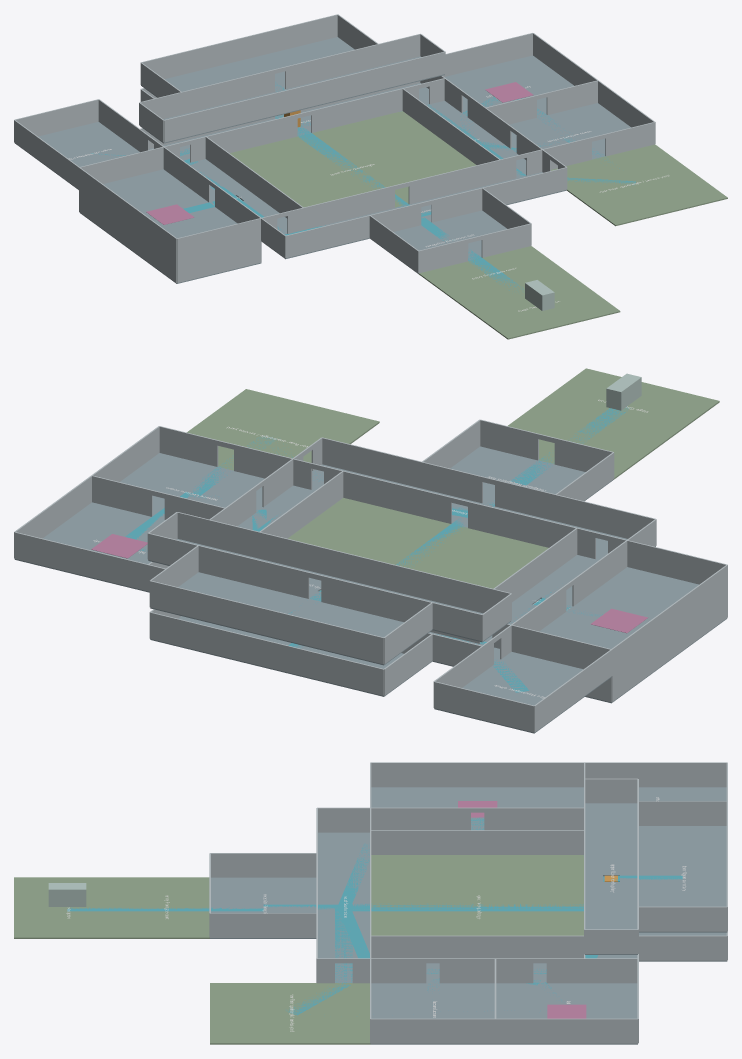
Rendered from rough-shell.glb.
The picture shows the model from 3 angles, top to bottom: view 1: azimuth 30°, elevation 25°; view 2: azimuth 150°, elevation 25°; view 3: azimuth 270°, elevation 25°; orthographic projection. The views are drawn at different scales.
Visible parts, largest first — view 1: Floor quad, Floor rear, Wall upper S, Floor stage, Floor entry, Wall dorm N, Floor library, Floor lab, Floor lecture, Floor dorm, Wall south S.001, Wall south S (+48 smaller); view 2: Floor quad, Wall upper S, Floor rear, Floor stage, Wall dining N, Wall dorm N, Floor library, Floor dorm, Floor lecture, Wall south S, Floor office, Wall lab N (+46 smaller); view 3: Floor quad, Floor rear, Floor dorm, Floor south, Floor stage, Wall library W, Floor entry, Wall west E, Wall east W, Floor lab, Floor lecture, Floor library (+38 smaller).
Part boxes in pixels (left/top/right/bottom): Floor quad: left=230, top=111, right=476, bottom=207; Floor rear: left=551, top=144, right=727, bottom=226; Wall upper S: left=164, top=51, right=445, bottom=142; Floor stage: left=459, top=275, right=620, bottom=339; Floor entry: left=418, top=246, right=571, bottom=303; Wall dorm N: left=141, top=14, right=337, bottom=78; Floor library: left=103, top=169, right=237, bottom=238; Floor lab: left=444, top=55, right=573, bottom=117; Floor lecture: left=509, top=103, right=630, bottom=159; Floor dorm: left=141, top=37, right=354, bottom=97; Wall south S.001: left=431, top=167, right=566, bottom=221; Wall south S: left=285, top=203, right=421, bottom=258; Floor quad: left=288, top=498, right=548, bottom=588; Wall upper S: left=177, top=512, right=511, bottom=613; Floor rear: left=187, top=389, right=379, bottom=470; Floor stage: left=528, top=368, right=719, bottom=444; Wall dining N: left=149, top=612, right=383, bottom=695; Wall dorm N: left=149, top=580, right=383, bottom=664; Floor library: left=539, top=567, right=698, bottom=648; Floor dorm: left=150, top=572, right=431, bottom=665; Floor lecture: left=120, top=453, right=264, bottom=519; Wall south S: left=495, top=480, right=655, bottom=538; Floor office: left=434, top=652, right=611, bottom=733; Wall lab N: left=14, top=532, right=147, bottom=590; Floor quad: left=371, top=855, right=583, bottom=935; Floor rear: left=210, top=983, right=370, bottom=1044; Floor dorm: left=639, top=826, right=727, bottom=932; Floor south: left=318, top=832, right=369, bottom=982; Floor stage: left=14, top=877, right=120, bottom=938; Wall library W: left=371, top=762, right=584, bottom=787; Floor entry: left=121, top=877, right=209, bottom=938; Wall west E: left=371, top=830, right=583, bottom=854; Wall east W: left=371, top=935, right=583, bottom=958; Floor lab: left=495, top=983, right=637, bottom=1044; Floor lecture: left=370, top=983, right=495, bottom=1044; Floor library: left=371, top=787, right=583, bottom=830.
Size of the model in its own units: 68.16 by 9.76 by 80.08.
